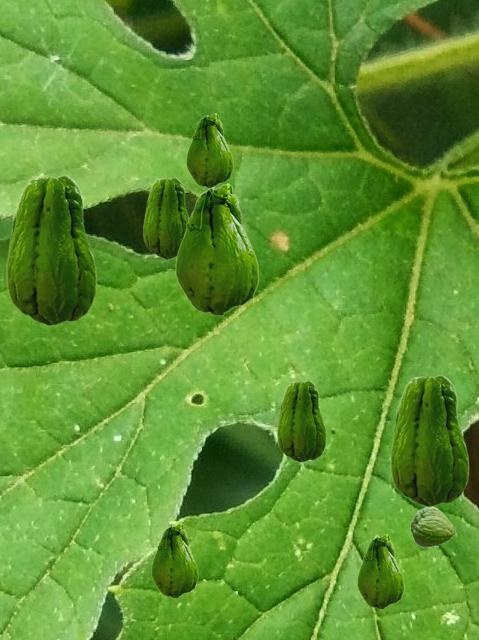sayote: (6, 174, 96, 325), (175, 183, 258, 315), (390, 374, 468, 506), (277, 380, 325, 461), (143, 177, 189, 258), (151, 523, 197, 597), (186, 113, 232, 187), (357, 534, 403, 608), (410, 506, 455, 546)
